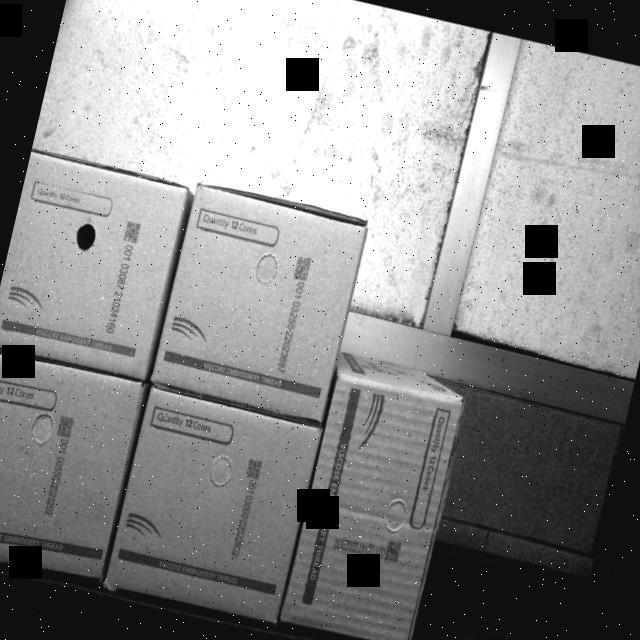box: (106, 378, 325, 627), (152, 183, 370, 423), (286, 373, 471, 640), (0, 144, 187, 378), (0, 349, 149, 584)
